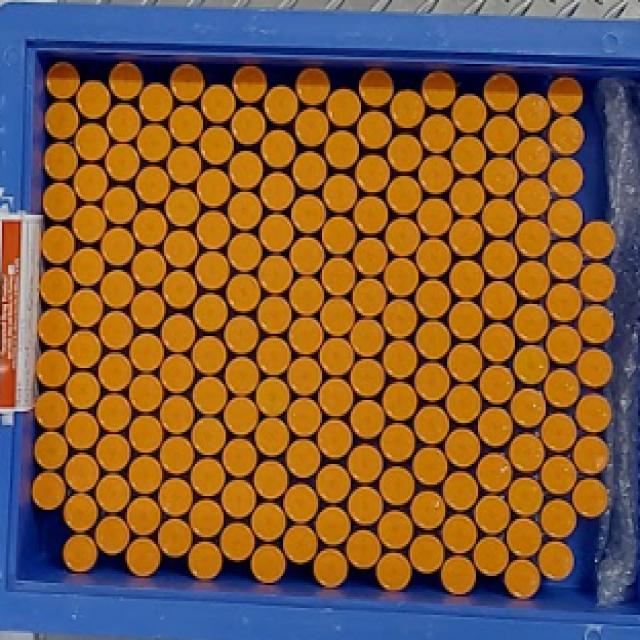vial: (540, 455, 578, 496), (541, 412, 578, 453), (282, 483, 319, 524), (312, 547, 349, 588), (472, 536, 509, 577), (442, 471, 479, 511), (481, 198, 518, 238), (548, 116, 585, 156), (579, 220, 616, 260), (62, 493, 99, 533), (441, 514, 478, 554), (504, 559, 541, 599), (572, 478, 609, 518), (292, 150, 328, 191), (509, 433, 545, 474), (548, 157, 584, 198), (576, 348, 612, 389), (250, 543, 286, 584), (410, 490, 446, 531), (409, 533, 445, 574), (474, 494, 510, 535), (508, 476, 544, 517), (538, 540, 574, 581), (481, 240, 518, 279), (481, 281, 518, 320), (512, 304, 549, 343), (512, 345, 549, 384), (572, 436, 609, 475), (375, 552, 412, 591), (322, 173, 358, 213), (315, 464, 351, 504), (386, 176, 422, 216), (382, 340, 418, 380), (479, 365, 515, 405), (478, 407, 514, 447), (476, 453, 512, 493), (546, 325, 582, 365), (579, 262, 615, 302), (575, 393, 611, 433), (315, 506, 351, 546), (348, 486, 384, 526), (76, 79, 111, 120), (139, 82, 174, 123), (199, 125, 234, 166), (260, 171, 295, 212), (451, 93, 486, 134), (484, 72, 519, 113), (415, 362, 450, 403), (451, 135, 486, 176), (95, 515, 130, 556), (221, 479, 256, 520), (346, 529, 381, 570), (102, 185, 138, 224), (132, 208, 168, 247), (162, 270, 198, 309), (192, 376, 228, 415), (190, 458, 226, 497), (222, 439, 258, 478), (260, 130, 296, 169), (258, 255, 294, 294), (318, 377, 354, 416), (352, 237, 388, 276), (348, 444, 384, 483), (382, 299, 418, 338), (382, 382, 418, 421), (379, 467, 415, 506), (515, 93, 551, 132), (420, 114, 456, 153), (416, 198, 452, 237), (415, 280, 451, 319), (415, 320, 451, 359), (412, 447, 448, 486), (448, 301, 484, 340), (445, 384, 481, 423), (482, 157, 518, 196), (510, 389, 546, 428), (546, 283, 582, 322), (544, 369, 580, 408), (578, 305, 614, 344), (64, 453, 100, 492), (62, 533, 98, 572), (95, 474, 131, 513), (125, 538, 161, 577), (158, 478, 194, 517), (282, 525, 318, 564), (378, 510, 414, 549), (440, 556, 476, 595), (506, 518, 542, 557), (540, 499, 576, 538), (201, 84, 236, 124), (231, 106, 266, 146), (254, 460, 289, 500), (291, 194, 326, 234), (289, 276, 324, 316), (286, 397, 321, 437), (324, 130, 359, 170), (419, 155, 454, 195), (450, 177, 485, 217), (445, 428, 480, 468), (480, 323, 515, 363), (515, 136, 550, 176), (515, 260, 550, 300), (126, 496, 161, 536), (189, 499, 224, 539), (220, 522, 255, 562), (295, 107, 329, 148), (318, 419, 352, 460), (158, 518, 192, 559), (192, 294, 228, 332), (232, 65, 268, 103), (319, 338, 355, 376), (449, 260, 485, 298), (109, 61, 144, 100), (106, 103, 141, 142), (105, 143, 140, 182), (71, 205, 106, 244), (70, 247, 105, 286), (69, 288, 104, 327), (66, 330, 101, 369), (100, 270, 135, 309), (99, 311, 134, 350), (96, 393, 131, 432), (96, 433, 131, 472), (135, 166, 170, 205), (131, 249, 166, 288), (131, 290, 166, 329), (129, 333, 164, 372), (129, 373, 164, 412), (170, 64, 205, 103), (169, 104, 204, 143), (166, 146, 201, 185), (165, 188, 200, 227), (164, 228, 199, 267), (161, 313, 196, 352), (160, 354, 195, 393), (160, 396, 195, 435), (160, 436, 195, 475), (196, 169, 231, 208), (195, 251, 230, 290), (191, 336, 226, 375), (191, 416, 226, 455), (229, 150, 264, 189), (226, 274, 261, 313), (224, 397, 259, 436), (259, 213, 294, 252), (321, 216, 356, 255), (320, 297, 355, 336), (359, 68, 394, 107), (355, 155, 390, 194), (350, 358, 385, 397), (350, 400, 385, 439), (390, 89, 425, 128), (385, 217, 420, 256), (384, 258, 419, 297), (380, 423, 415, 462), (421, 71, 456, 110), (416, 238, 451, 277), (414, 405, 449, 444), (449, 219, 484, 258), (484, 116, 519, 155), (515, 178, 550, 217), (515, 219, 550, 258), (31, 471, 66, 510), (251, 503, 286, 542), (264, 85, 298, 125), (548, 198, 582, 238), (188, 540, 222, 580), (74, 164, 109, 202), (65, 372, 100, 410), (129, 415, 164, 453), (224, 316, 259, 354), (256, 337, 291, 375), (295, 68, 330, 106), (290, 237, 325, 275), (326, 89, 361, 127), (350, 319, 385, 357), (44, 142, 78, 181), (42, 182, 76, 221), (75, 123, 109, 162), (41, 226, 75, 265), (40, 267, 74, 306), (38, 308, 72, 347), (36, 350, 70, 389), (65, 411, 99, 450), (101, 227, 135, 266), (98, 352, 132, 391), (196, 210, 230, 249), (228, 191, 262, 230), (228, 233, 262, 272), (225, 357, 259, 396), (256, 377, 290, 416), (255, 418, 289, 457), (288, 357, 322, 396), (286, 439, 320, 478), (358, 110, 392, 149), (354, 196, 388, 235), (352, 279, 386, 318), (388, 134, 422, 173), (548, 77, 582, 116), (448, 343, 482, 382), (548, 241, 582, 280), (289, 318, 324, 355), (321, 258, 356, 295), (46, 61, 80, 99), (35, 391, 69, 429), (138, 124, 171, 163), (129, 455, 162, 494), (258, 295, 291, 334), (45, 102, 79, 139), (34, 432, 68, 469)
